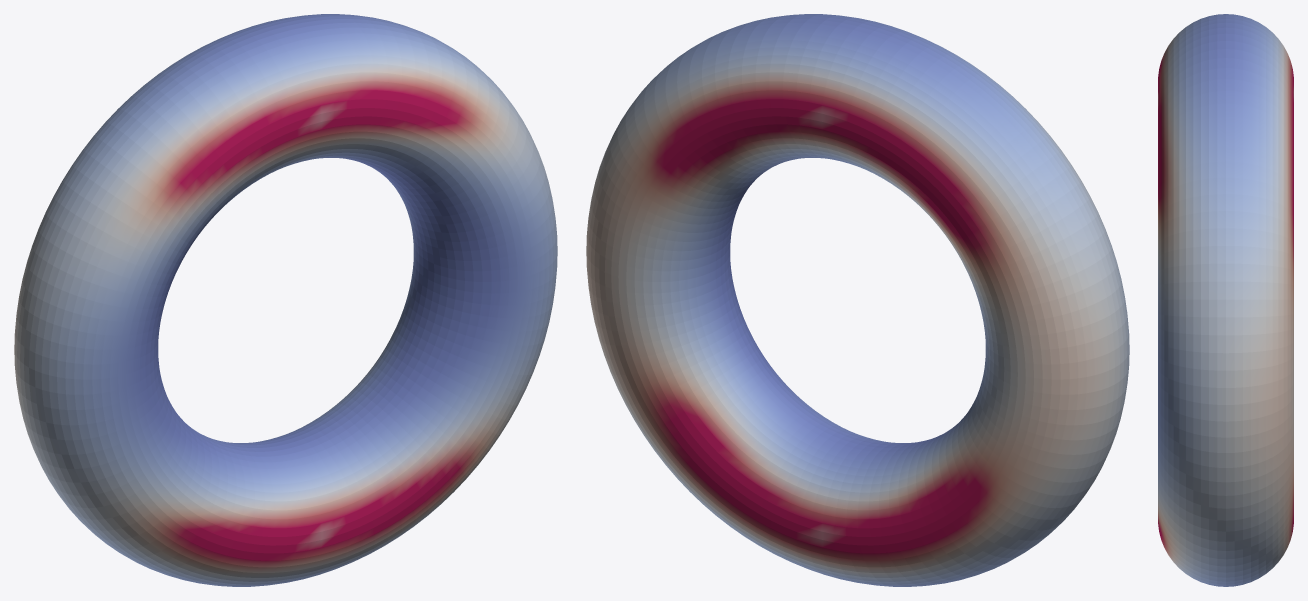
3 views of the same model, side by side, from view 1: azimuth 30°, elevation 25°; view 2: azimuth 150°, elevation 25°; view 3: azimuth 270°, elevation 25° (orthographic). The views are drawn at different scales.
Visible parts, largest first — view 1: world; view 2: world; view 3: world.
Part boxes in pixels (x1,y1,x2,y2): world: [14, 14, 557, 586]; world: [586, 14, 1129, 586]; world: [1158, 14, 1293, 586].
Bounding box in the file's own units: 21.87 × 21.87 × 5.19.
